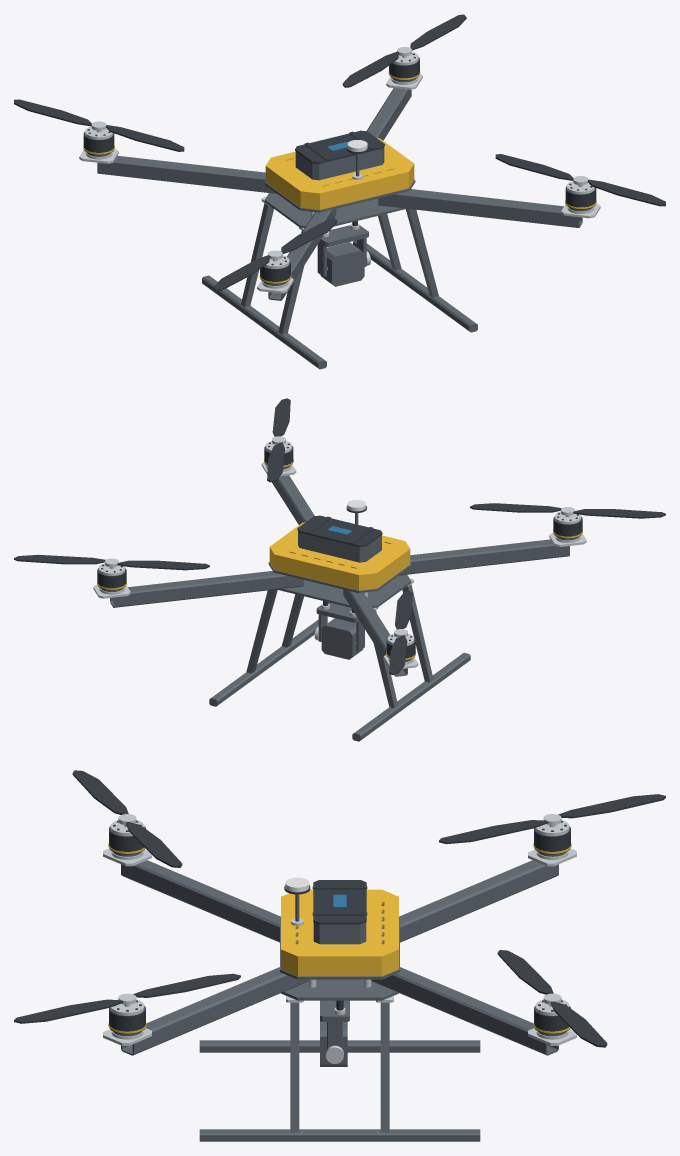
The model's file is drone.glb.
3 renders of one model, top to bottom at view 1: azimuth 30°, elevation 25°; view 2: azimuth 150°, elevation 25°; view 3: azimuth 270°, elevation 25°, orthographic. The views are drawn at different scales.
Parts seen in each view (by area): view 1: Avionics_Cover-1, Arm_Boom-1, Arm_Boom-3, Battery_Pack-1, Frame_Plate-1, Propeller_CW-2, Propeller_CW-1, Landing_Skid-2, Propeller_CCW-1, Propeller_CCW-2, Survey_Camera-1, Landing_Skid-1 (+12 smaller); view 2: Avionics_Cover-1, Arm_Boom-4, Arm_Boom-2, Battery_Pack-1, Frame_Plate-1, Propeller_CCW-2, Propeller_CCW-1, Arm_Boom-3, Landing_Skid-2, Landing_Skid-1, Survey_Camera-1, Propeller_CW-1 (+8 smaller); view 3: Avionics_Cover-1, Arm_Boom-1, Arm_Boom-4, Arm_Boom-3, Arm_Boom-2, Landing_Skid-1, Battery_Pack-1, Landing_Skid-2, Propeller_CW-1, Propeller_CW-2, Propeller_CCW-2, Propeller_CCW-1 (+11 smaller).
Part boxes in pixels (x1,y1,x2,y2): Avionics_Cover-1: [265, 137, 414, 209]; Arm_Boom-1: [378, 189, 600, 227]; Arm_Boom-3: [79, 149, 276, 193]; Battery_Pack-1: [295, 130, 384, 180]; Frame_Plate-1: [264, 193, 406, 228]; Propeller_CW-2: [14, 99, 184, 151]; Propeller_CW-1: [495, 154, 665, 206]; Landing_Skid-2: [202, 275, 326, 369]; Propeller_CCW-1: [213, 218, 337, 291]; Propeller_CCW-2: [342, 14, 466, 87]; Survey_Camera-1: [320, 242, 364, 286]; Landing_Skid-1: [353, 240, 477, 332]; Avionics_Cover-1: [269, 522, 410, 590]; Arm_Boom-4: [93, 571, 303, 607]; Arm_Boom-2: [399, 533, 586, 575]; Battery_Pack-1: [297, 515, 382, 562]; Frame_Plate-1: [276, 574, 411, 607]; Propeller_CCW-2: [14, 554, 209, 570]; Propeller_CCW-1: [470, 503, 665, 518]; Arm_Boom-3: [343, 589, 418, 676]; Landing_Skid-2: [352, 652, 470, 741]; Landing_Skid-1: [209, 619, 318, 706]; Survey_Camera-1: [321, 618, 363, 659]; Propeller_CW-1: [267, 398, 290, 482]; Avionics_Cover-1: [281, 889, 398, 976]; Arm_Boom-1: [103, 967, 308, 1055]; Arm_Boom-4: [371, 967, 576, 1055]; Arm_Boom-3: [400, 848, 576, 942]; Arm_Boom-2: [103, 848, 279, 942]; Landing_Skid-1: [199, 1129, 480, 1141]; Battery_Pack-1: [312, 880, 367, 944]; Landing_Skid-2: [199, 1040, 480, 1052]; Propeller_CW-1: [14, 973, 240, 1023]; Propeller_CW-2: [439, 794, 665, 844]; Propeller_CCW-2: [497, 950, 607, 1047]; Propeller_CCW-1: [72, 770, 182, 867].
Bounding box in the file's own units: 1.3 × 0.469 × 1.3.
